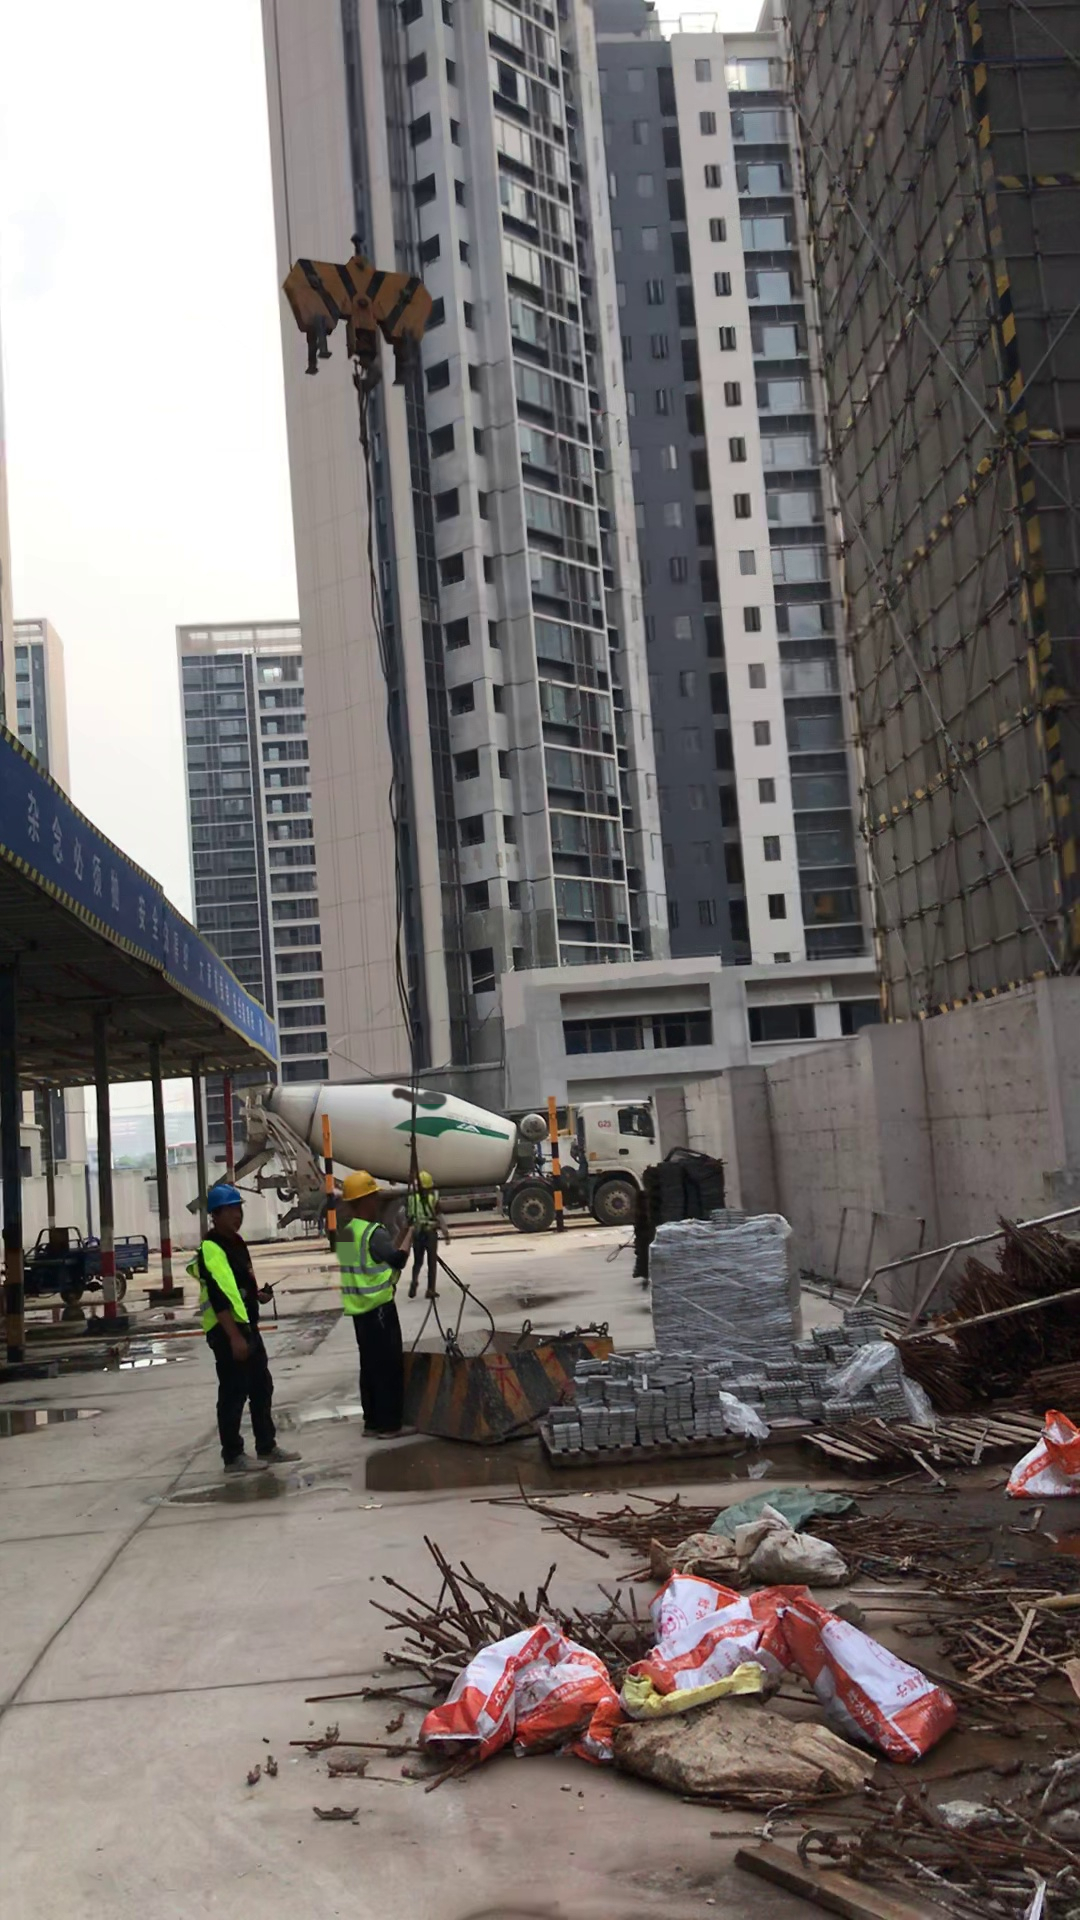helmet: (199, 1180, 251, 1210), (336, 1167, 384, 1198), (417, 1169, 436, 1187)
hook: (291, 230, 445, 378)
hopper: (399, 1314, 620, 1448)
person: (159, 1174, 314, 1486), (304, 1155, 445, 1453), (403, 1173, 451, 1302)
slogan: (18, 767, 286, 1074)
vest: (192, 1235, 263, 1334), (334, 1220, 393, 1309), (414, 1194, 435, 1227)
